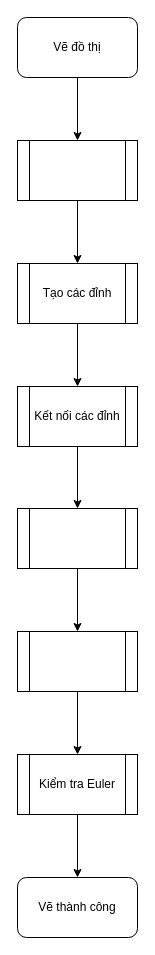
This 155x955 diagram has some shape labels left out. Here are the shapes that lost their labels. From the top down, the centre of each, then its label:
At (77,170): "Khởi tạo đồ thị".
At (77,538): "Thêm cạnh ngẫu nhiên".
At (77,661): "Vẽ đồ thị Canvas".
